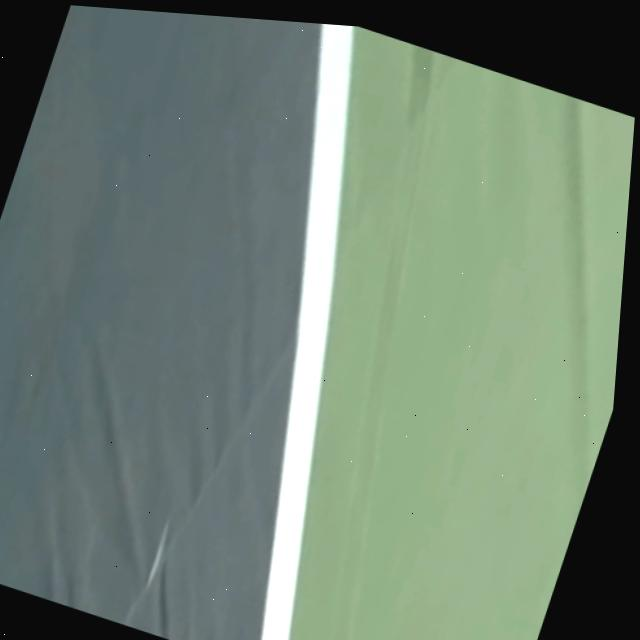right: (260, 24, 353, 640)
